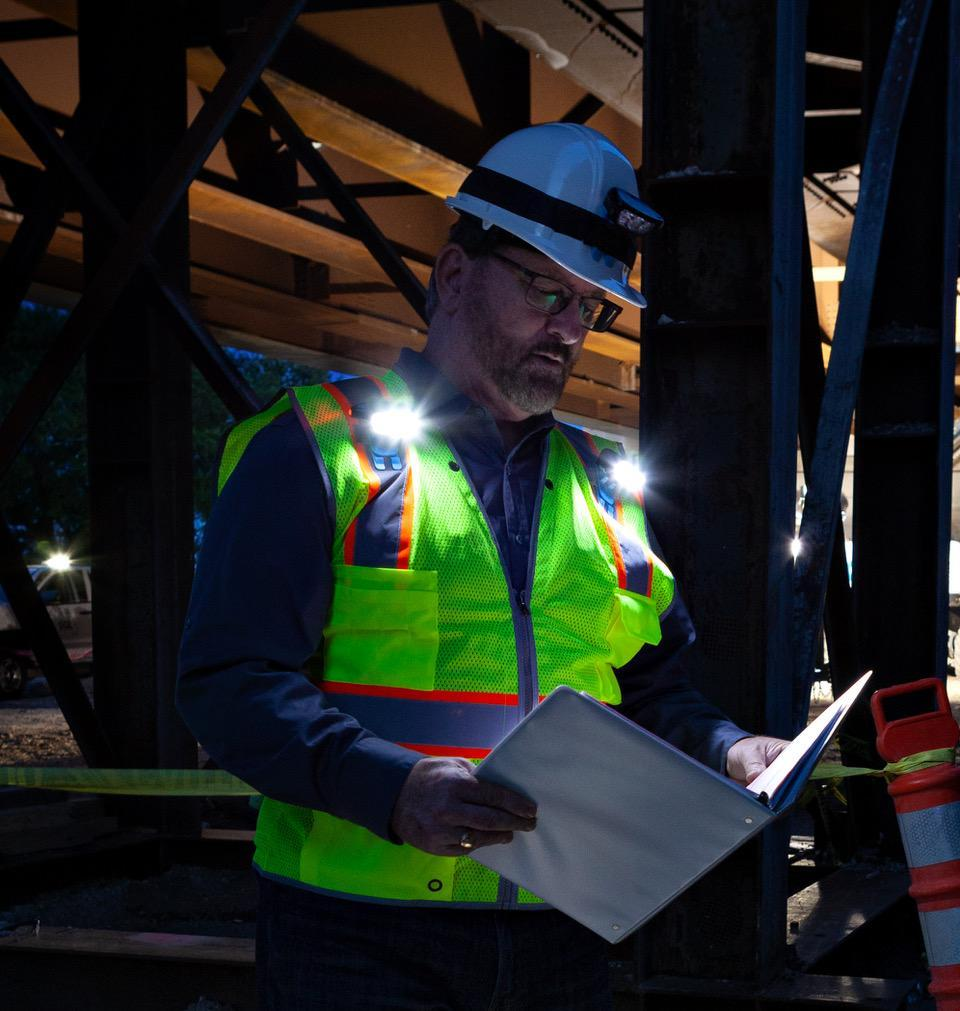helmet: (442, 116, 655, 311)
